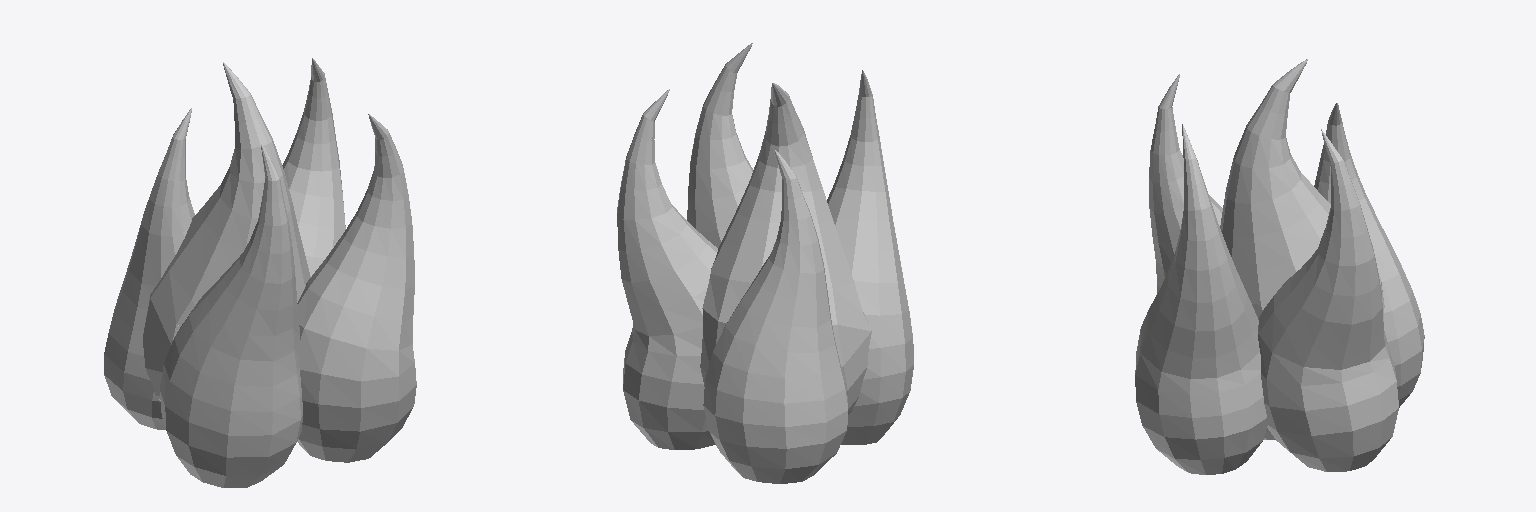
The model's file is fire_000036.obj.
The picture shows the model from 3 angles: view 1: azimuth 30°, elevation 25°; view 2: azimuth 150°, elevation 25°; view 3: azimuth 270°, elevation 25°; orthographic projection.
Parts seen in each view (by area): view 1: flame_NurbsPath.015; view 2: flame_NurbsPath.015; view 3: flame_NurbsPath.015.
Boxes of the visible parts, x1=… form: flame_NurbsPath.015: x1=104, y1=58, x2=416, y2=487; flame_NurbsPath.015: x1=617, y1=43, x2=913, y2=483; flame_NurbsPath.015: x1=1135, y1=59, x2=1424, y2=474.
Size of the model in its own units: 0.7404 by 1.17 by 0.8115.